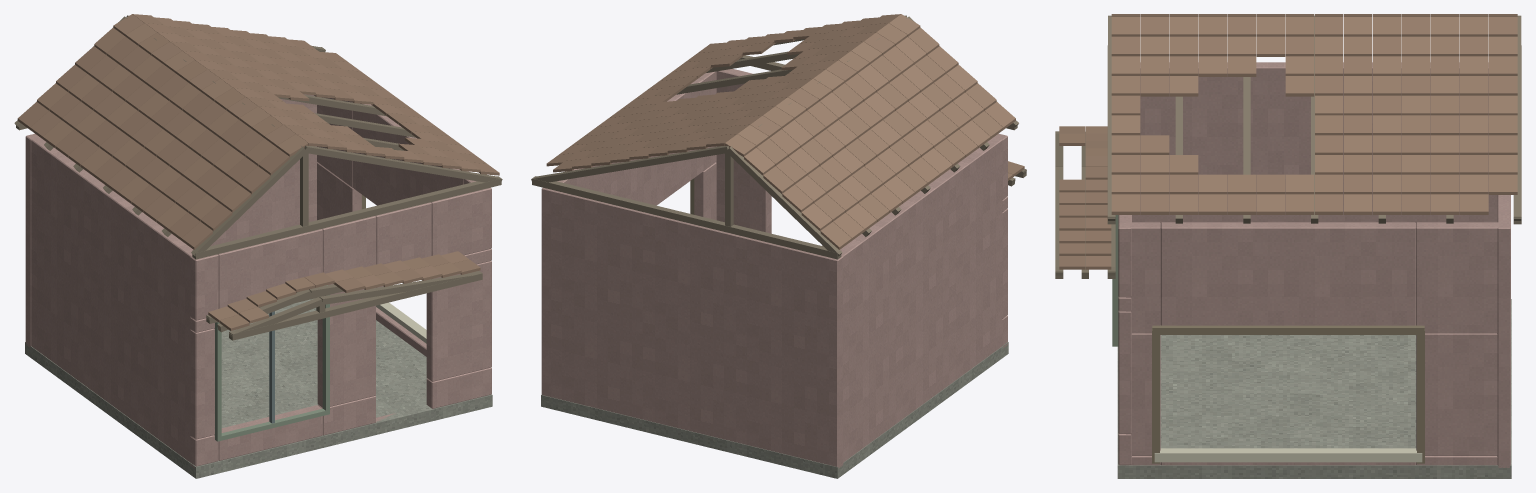
Rendered from 019_dusty_rose_terrace_cafe_pitched_roof.glb.
The picture shows the model from 3 angles, left to right: view 1: azimuth 30°, elevation 25°; view 2: azimuth 150°, elevation 25°; view 3: azimuth 270°, elevation 25°; orthographic projection. The views are drawn at different scales.
Visible parts, largest first — view 1: BLD-019_pitched_roof_covering, BLD-019_cafe_front, cafe_left, Cafe_foundation, BLD-019_pitched_roof_structure, BLD-019_cafe_terrace_side, cafe_back, BLD-019_frames, Terrace_low_sill; view 2: cafe_back, BLD-019_pitched_roof_covering, cafe_left, BLD-019_pitched_roof_structure, Cafe_foundation, BLD-019_cafe_terrace_side, BLD-019_cafe_front; view 3: BLD-019_pitched_roof_covering, BLD-019_cafe_terrace_side, Cafe_foundation, cafe_left, BLD-019_pitched_roof_structure, BLD-019_frames, Terrace_low_sill, cafe_back, BLD-019_cafe_front.
Part boxes in pixels (x1,y1,x2,y2): BLD-019_pitched_roof_covering: (17,14,499,330); BLD-019_cafe_front: (190,187,491,468); cafe_left: (31,137,193,464); Cafe_foundation: (25,298,492,478); BLD-019_pitched_roof_structure: (14,15,502,340); BLD-019_cafe_terrace_side: (317,97,475,356); cafe_back: (25,94,317,347); BLD-019_frames: (214,195,365,441); Terrace_low_sill: (376,302,426,343); cafe_back: (541,187,843,468); BLD-019_pitched_roof_covering: (546,14,1024,249); cafe_left: (840,137,1004,462); BLD-019_pitched_roof_structure: (531,15,1026,259); Cafe_foundation: (541,342,1008,478); BLD-019_cafe_terrace_side: (557,71,716,220); BLD-019_cafe_front: (716,68,1007,347); BLD-019_pitched_roof_covering: (1059,14,1517,269); BLD-019_cafe_terrace_side: (1126,222,1502,465); Cafe_foundation: (1117,299,1511,478); cafe_left: (1132,62,1497,222); BLD-019_pitched_roof_structure: (1055,15,1521,278); BLD-019_frames: (1112,215,1424,463); Terrace_low_sill: (1154,448,1422,462); cafe_back: (1497,195,1510,467); BLD-019_cafe_front: (1118,215,1131,465).
Bounding box in the file's own units: 6.66 × 6.41 × 7.58.
10 materials, 2 textured.
